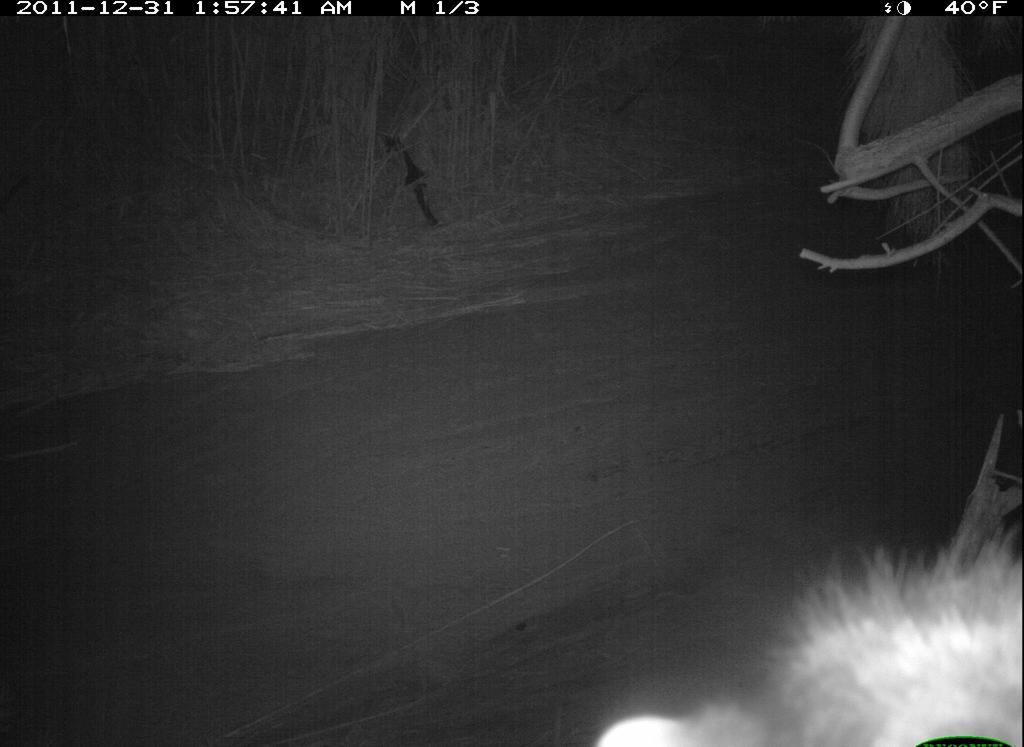raccoon: (588, 514, 1022, 747)
